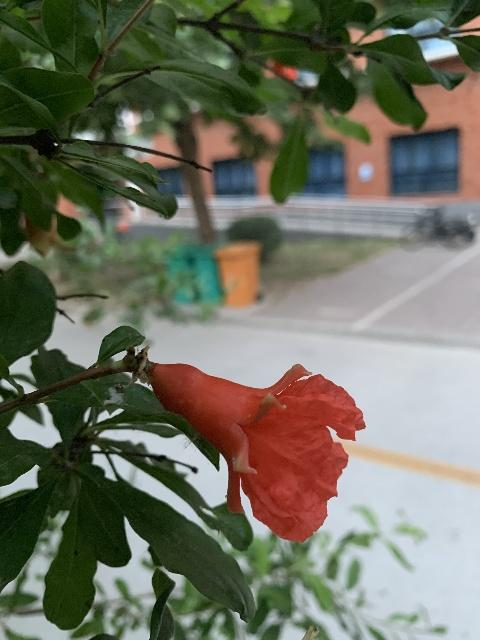flower: (151, 362, 365, 542)
